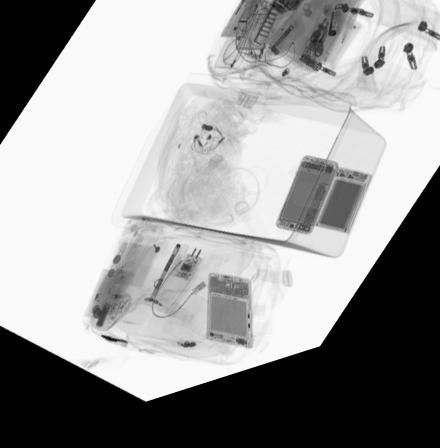Powerbank: (314, 189, 371, 255)
